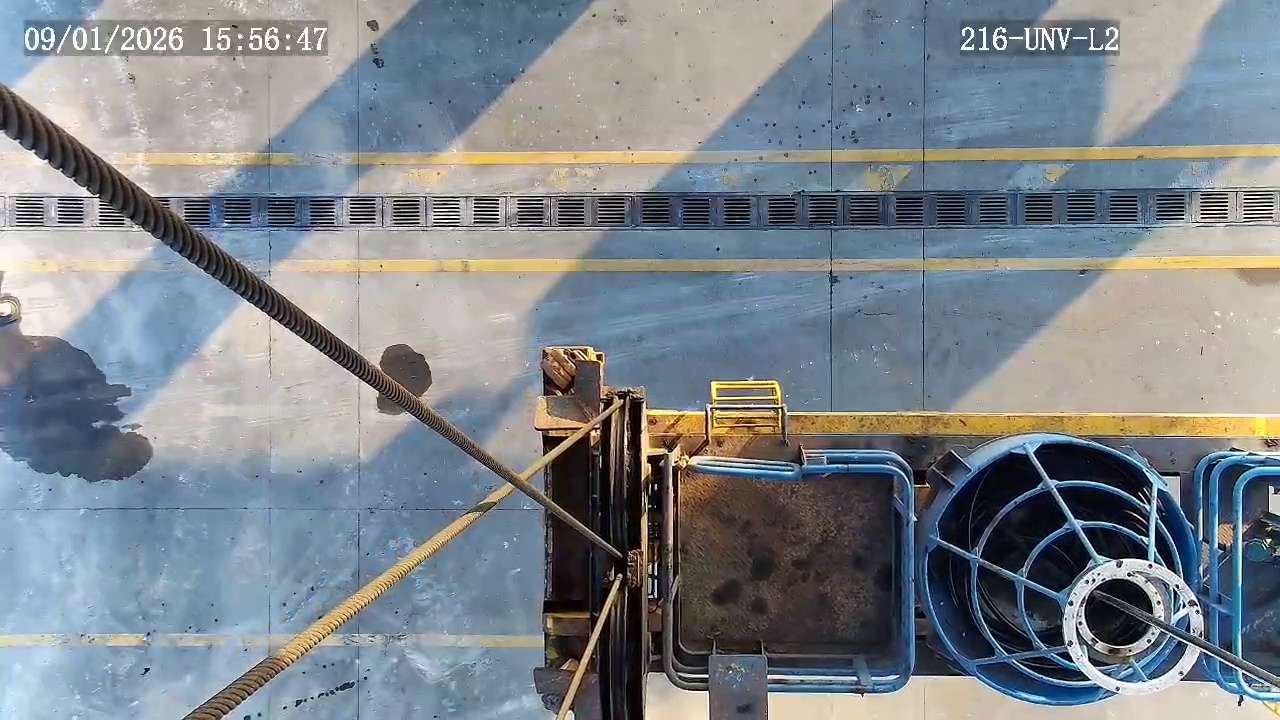left: (924, 442, 1199, 704)
